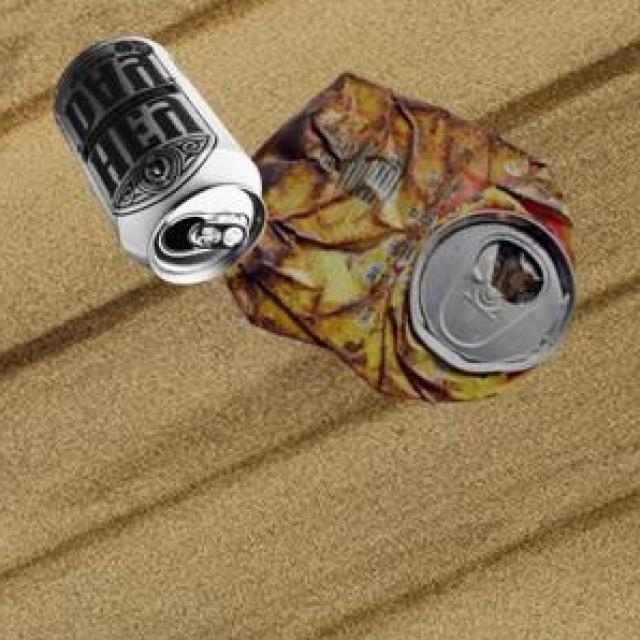logam: (229, 68, 579, 401), (57, 33, 270, 280)
